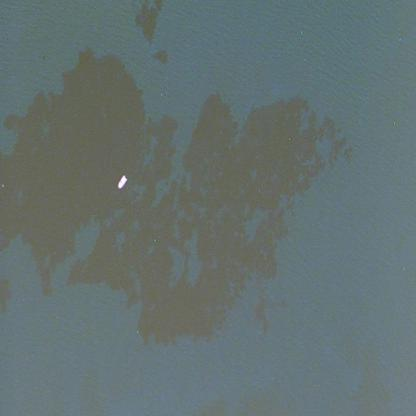ship: (116, 8, 128, 24)
